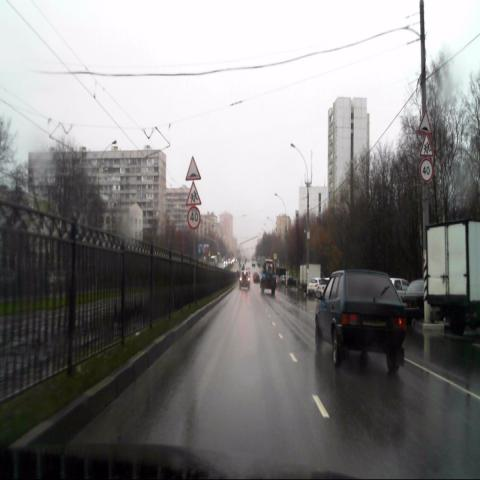1_17: (418, 108, 432, 134)
1_23: (186, 181, 201, 205)
